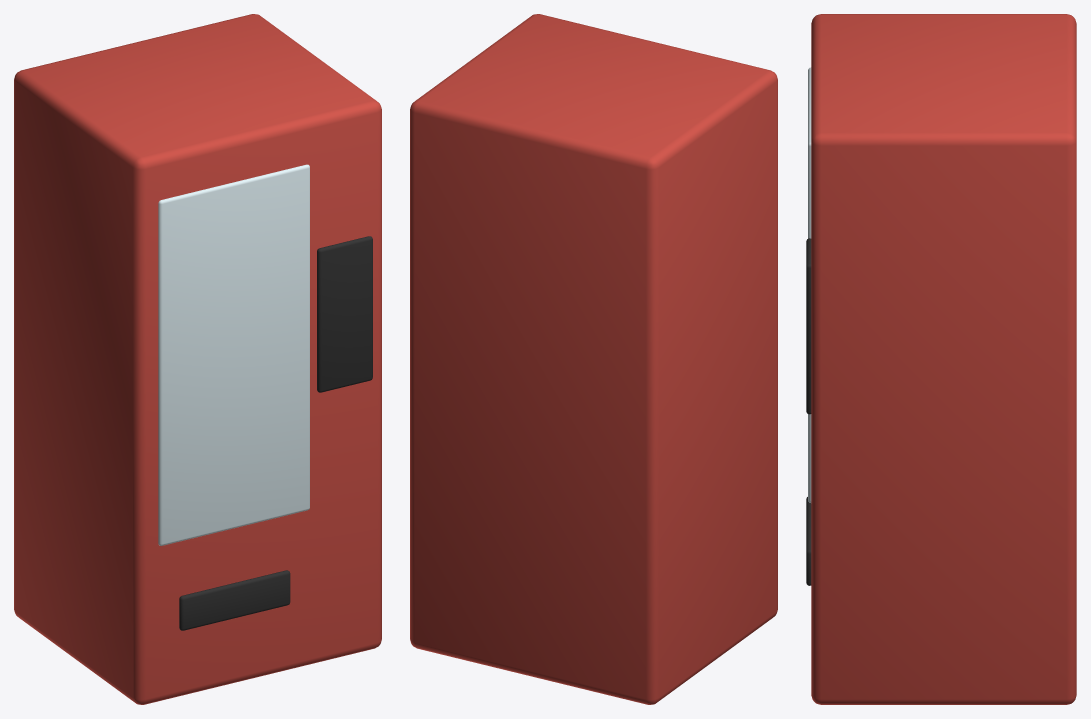
Rendered from vending.glb.
3 renders of one model, left to right at view 1: azimuth 30°, elevation 25°; view 2: azimuth 150°, elevation 25°; view 3: azimuth 270°, elevation 25°, orthographic. The views are drawn at different scales.
Visible parts, largest first — view 1: body, window, panel, slot; view 2: body; view 3: body, panel, window, slot.
Part boxes in pixels (<box>): body: <box>14,14,381,704</box>; window: <box>158,164,309,545</box>; panel: <box>317,236,372,392</box>; slot: <box>179,570,290,630</box>; body: <box>410,14,777,704</box>; body: <box>811,14,1076,704</box>; panel: <box>806,238,811,414</box>; window: <box>808,67,811,502</box>; slot: <box>806,497,811,585</box>.
Size of the model in its own units: 0.9 by 1.9 by 0.815.
